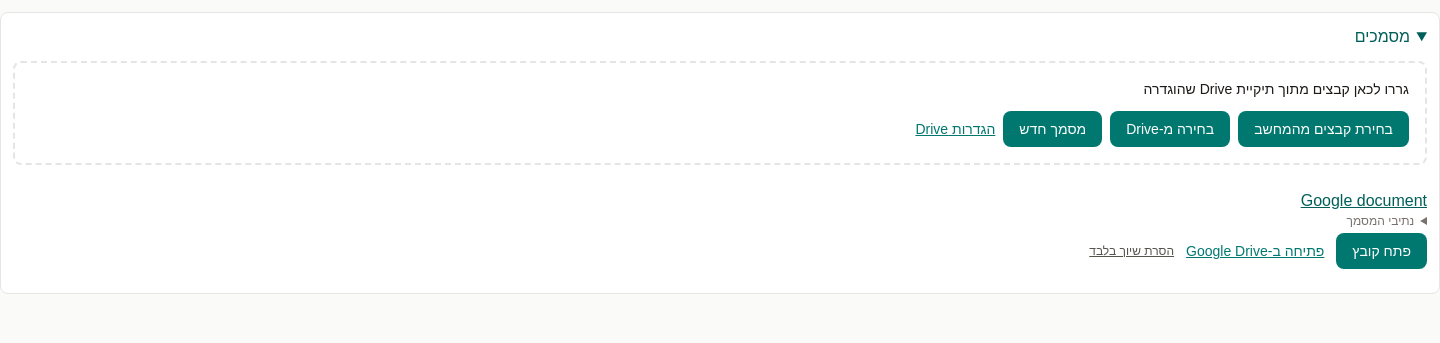
Test: document open choices › explains Google-native files without trying to open a nonexistent Word file
The image size is (1440, 343).
Click the button "פתח קובץ": (1382, 251) [1336,233,1427,269]
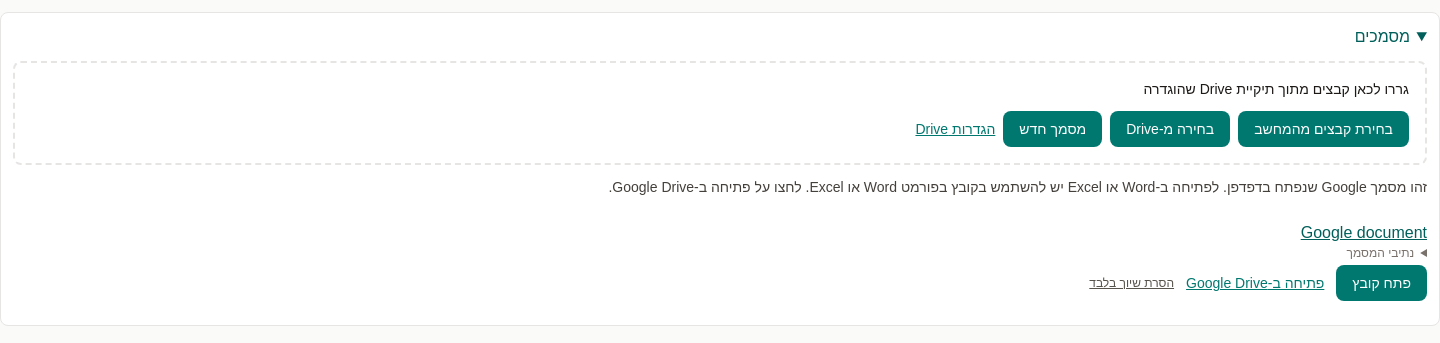
Now the text "זהו מסמך Google שנפתח בדפדפן" is shown, box [608,179,1427,195]
